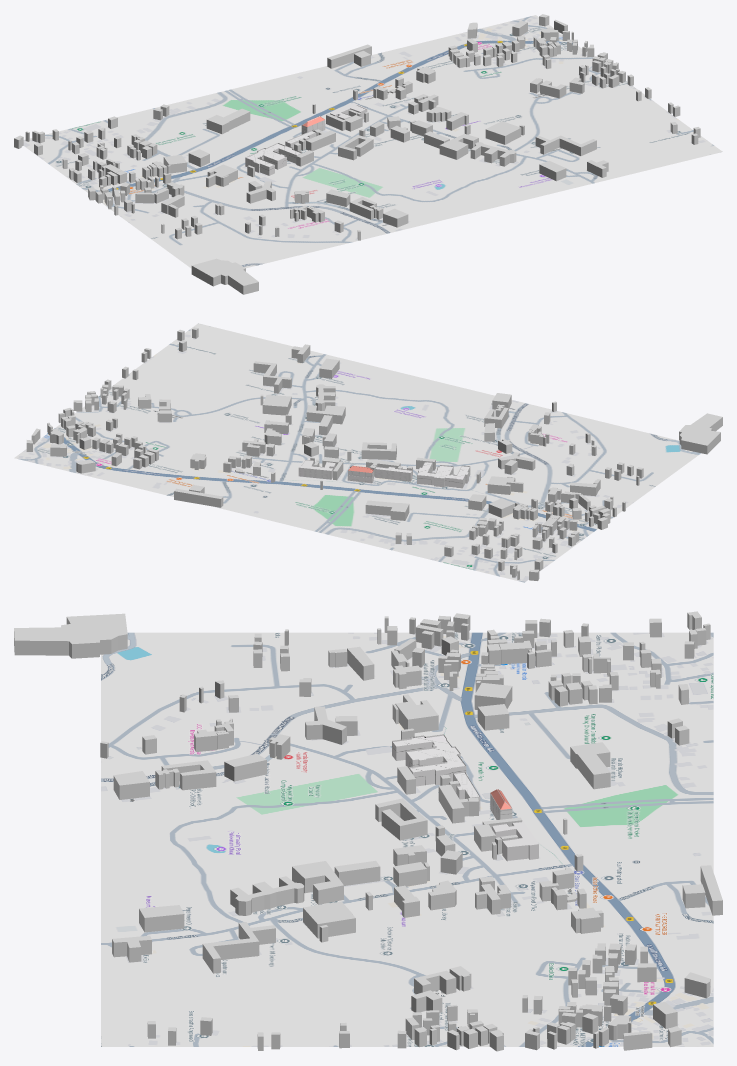
3 views of the same model, one above another, from view 1: azimuth 30°, elevation 25°; view 2: azimuth 150°, elevation 25°; view 3: azimuth 270°, elevation 25° (orthographic). The views are drawn at different scales.
Parts seen in each view (by area): view 1: EXPORT_GOOGLE_MAP_WM, Leela building, UGC - Human Resource Development Centre, Political Science, Economics, Sociology, History, Department of Future Studies, Kerala Highway Research Institute, 798419268, 1202708224, School of Buisiness, Management & Legal Studies, 225367091, Det of Media & Journalism; view 2: EXPORT_GOOGLE_MAP_WM, Leela building, UGC - Human Resource Development Centre, Kerala Highway Research Institute, Political Science, Economics, Sociology, History, Det of Media & Journalism, School of Buisiness, Management & Legal Studies, 798419268, 225367091, Science Block II, 1202708224, 1202707782 (+1 smaller); view 3: EXPORT_GOOGLE_MAP_WM, Leela building, UGC - Human Resource Development Centre, Political Science, Economics, Sociology, History, Department of Future Studies, School of Buisiness, Management & Legal Studies, 798419268, Kerala Highway Research Institute, 1202708224, Science Block II, 225367091, Philosophy, Archeology, Islamic Studies (+13 smaller).
Boxes of the visible parts, box(x1,y1,x2,y2) form: EXPORT_GOOGLE_MAP_WM: box(23, 15, 722, 268); Leela building: box(191, 258, 258, 294); UGC - Human Resource Development Centre: box(245, 143, 301, 175); Political Science, Economics, Sociology, History: box(535, 135, 596, 155); Department of Future Studies: box(470, 142, 516, 166); Kerala Highway Research Institute: box(206, 108, 250, 134); 798419268: box(439, 133, 478, 159); 1202708224: box(485, 121, 521, 144); School of Buisiness, Management & Legal Studies: box(338, 135, 373, 160); 225367091: box(206, 164, 237, 187); Det of Media & Journalism: box(327, 44, 371, 68); EXPORT_GOOGLE_MAP_WM: box(14, 323, 700, 582); Leela building: box(679, 413, 722, 454); UGC - Human Resource Development Centre: box(417, 461, 470, 488); Kerala Highway Research Institute: box(365, 500, 409, 520); Political Science, Economics, Sociology, History: box(253, 361, 291, 393); Det of Media & Journalism: box(174, 488, 223, 507); School of Buisiness, Management & Legal Studies: box(361, 442, 396, 459); 798419268: box(306, 405, 345, 424); 225367091: box(487, 476, 523, 494); Science Block II: box(298, 459, 335, 479); 1202708224: box(262, 395, 291, 415); 1202707782: box(375, 466, 412, 481); EXPORT_GOOGLE_MAP_WM: box(101, 632, 713, 1046); Leela building: box(14, 613, 127, 658); UGC - Human Resource Development Centre: box(392, 734, 466, 786); Political Science, Economics, Sociology, History: box(202, 922, 275, 973); Department of Future Studies: box(230, 876, 304, 915); School of Buisiness, Management & Legal Studies: box(375, 798, 427, 840); 798419268: box(292, 861, 343, 904); Kerala Highway Research Institute: box(570, 742, 610, 789); 1202708224: box(303, 901, 355, 938); Science Block II: box(492, 821, 538, 861); 225367091: box(395, 694, 438, 732); Philosophy, Archeology, Islamic Studies: box(139, 905, 184, 932).
Size of the model in its own units: 1257 by 31.2 by 885.
Materials: 3 (3 with a texture image).
